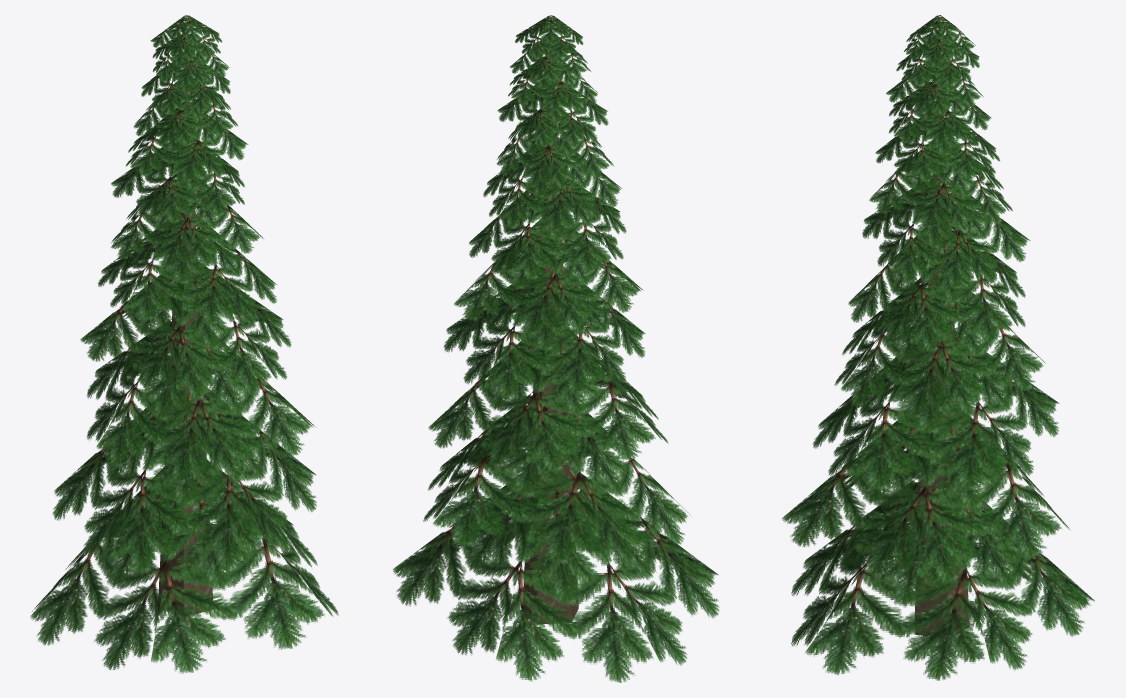
File: Tree.glb
The picture shows the model from 3 angles, left to right: view 1: azimuth 30°, elevation 25°; view 2: azimuth 150°, elevation 25°; view 3: azimuth 270°, elevation 25°; orthographic projection. The views are drawn at different scales.
Parts seen in each view (by area): view 1: Cylinder.001; view 2: Cylinder.001; view 3: Cylinder.001.
Boxes of the visible parts, left/top/right/bottom form: Cylinder.001: left=30, top=15, right=338, bottom=673; Cylinder.001: left=393, top=15, right=719, bottom=682; Cylinder.001: left=782, top=15, right=1094, bottom=680.
Size of the model in its own units: 5.71 by 11.34 by 5.67.
Materials: 2 (2 with a texture image).
